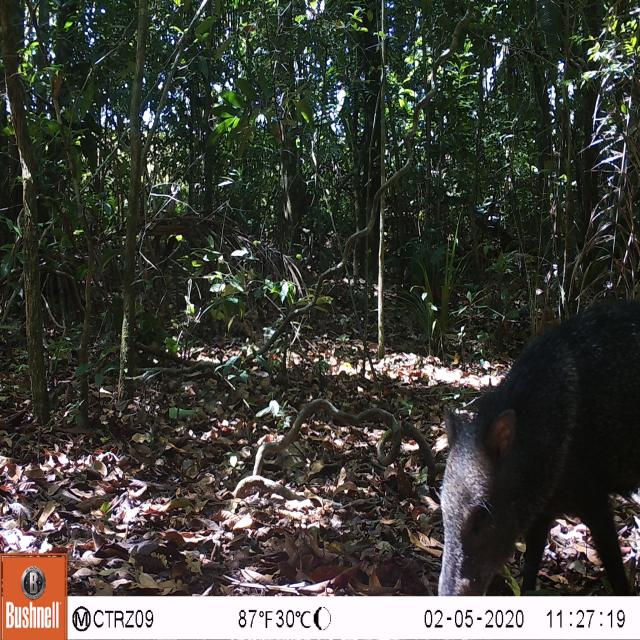Collared Peccary: (428, 281, 640, 595)
